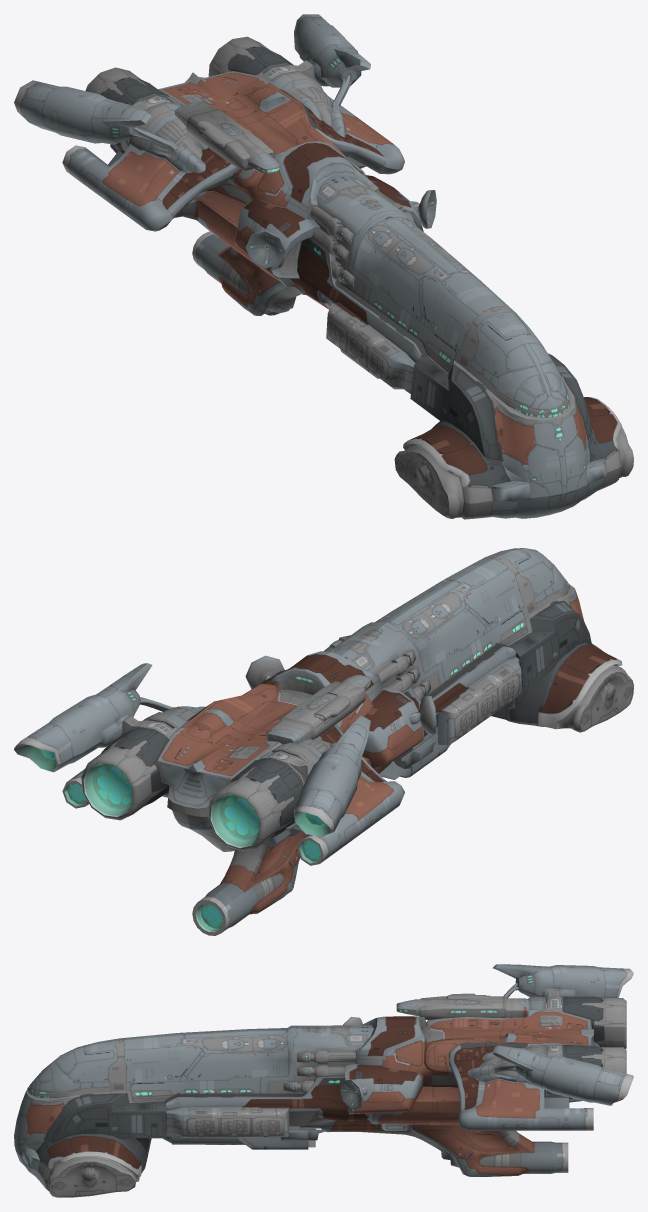
The model's file is 11989_lite.glb.
The picture shows the model from 3 angles, top to bottom: view 1: azimuth 30°, elevation 25°; view 2: azimuth 150°, elevation 25°; view 3: azimuth 270°, elevation 25°; orthographic projection. The views are drawn at different scales.
Visible parts, largest first — view 1: ship; view 2: ship; view 3: ship.
Boxes of the visible parts, box(x1,y1,x2,y2) form: ship: box(14, 14, 633, 519); ship: box(14, 548, 633, 935); ship: box(14, 964, 633, 1197).
Bounding box in the file's own units: 1.34 × 0.8817 × 2.91.
1 material, 1 textured.
